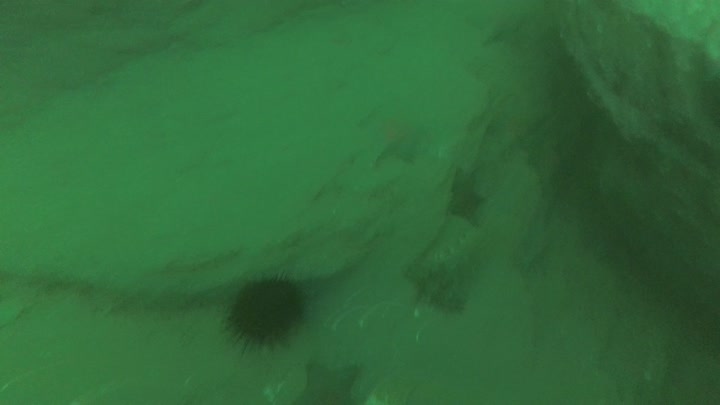echinus: (219, 268, 310, 356)
starfish: (282, 360, 361, 405), (446, 164, 488, 225)
